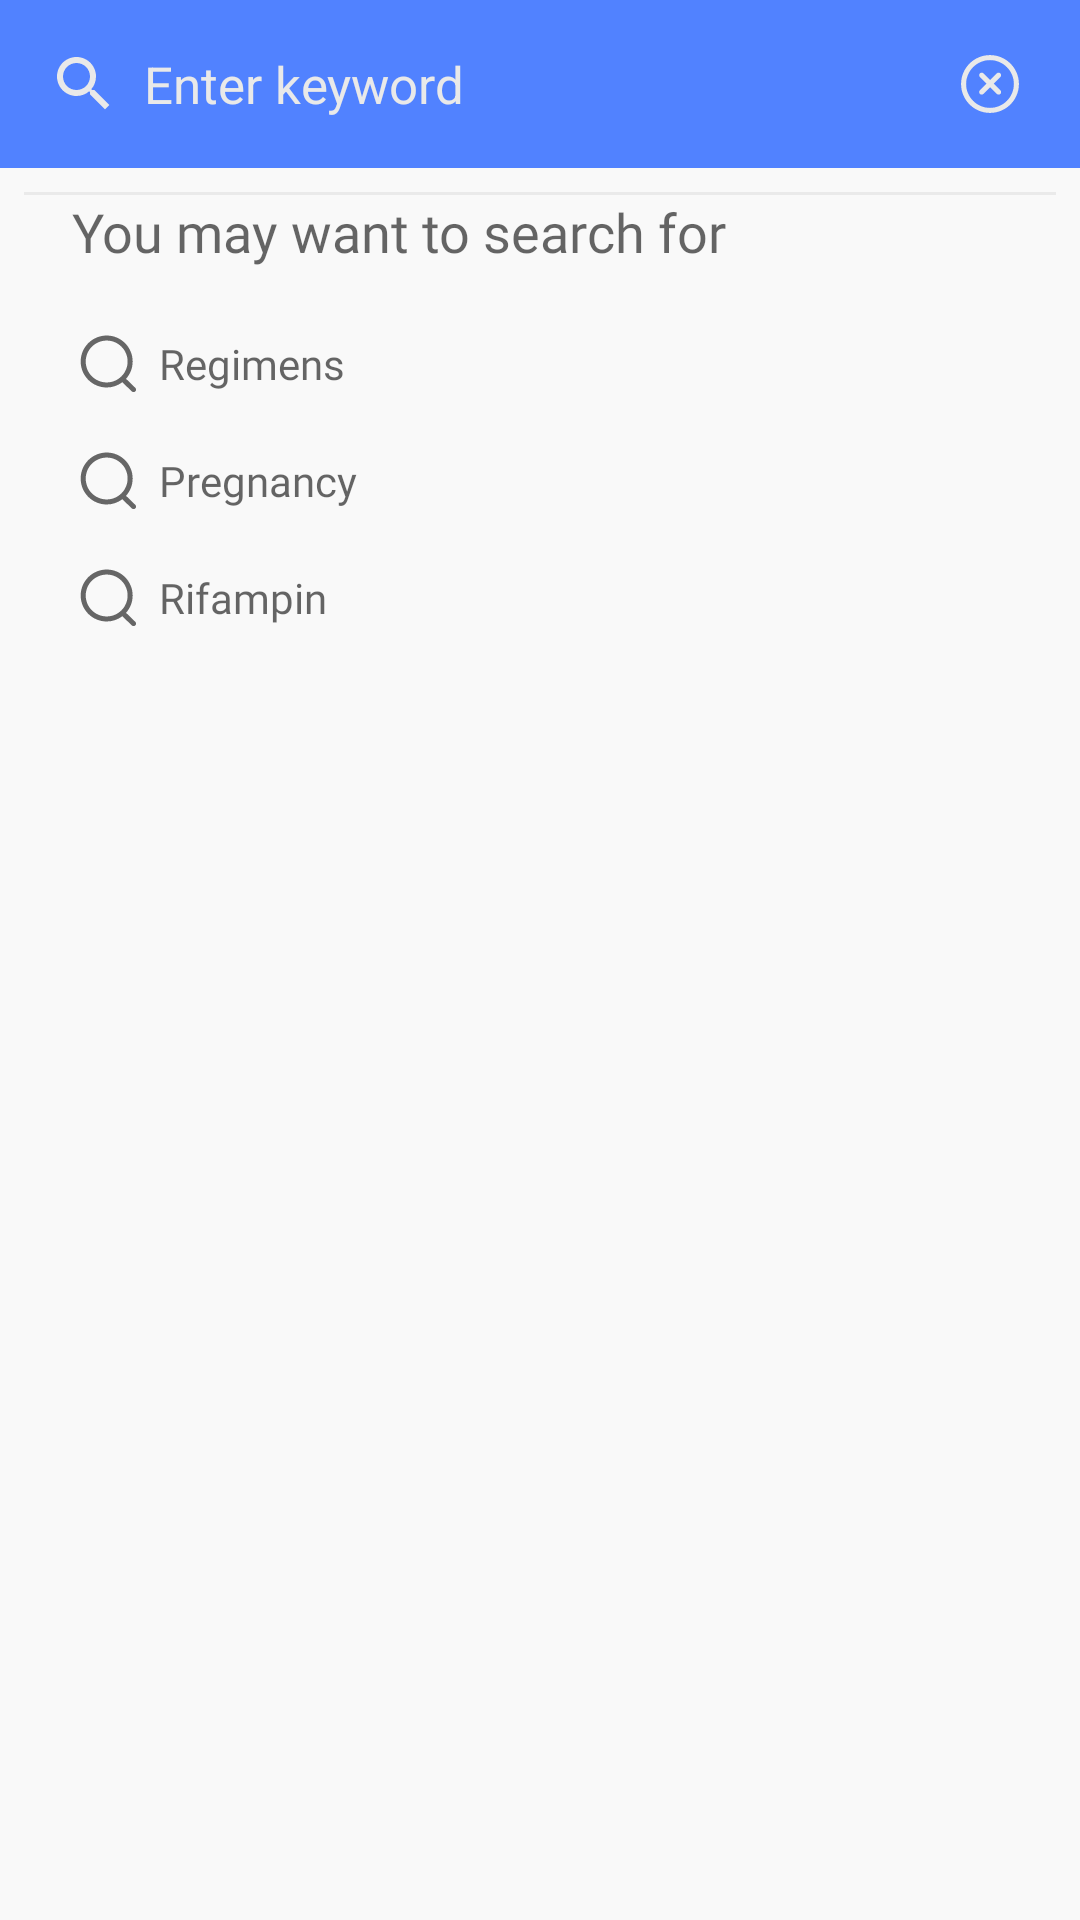

Icons on this 1080 × 1920 Android screen, each with its box as (x1, y1, x2, y2):
clear content: (961, 55, 1019, 113)
